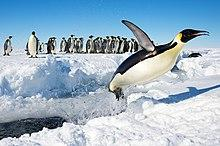emporer: (95, 14, 213, 105)
